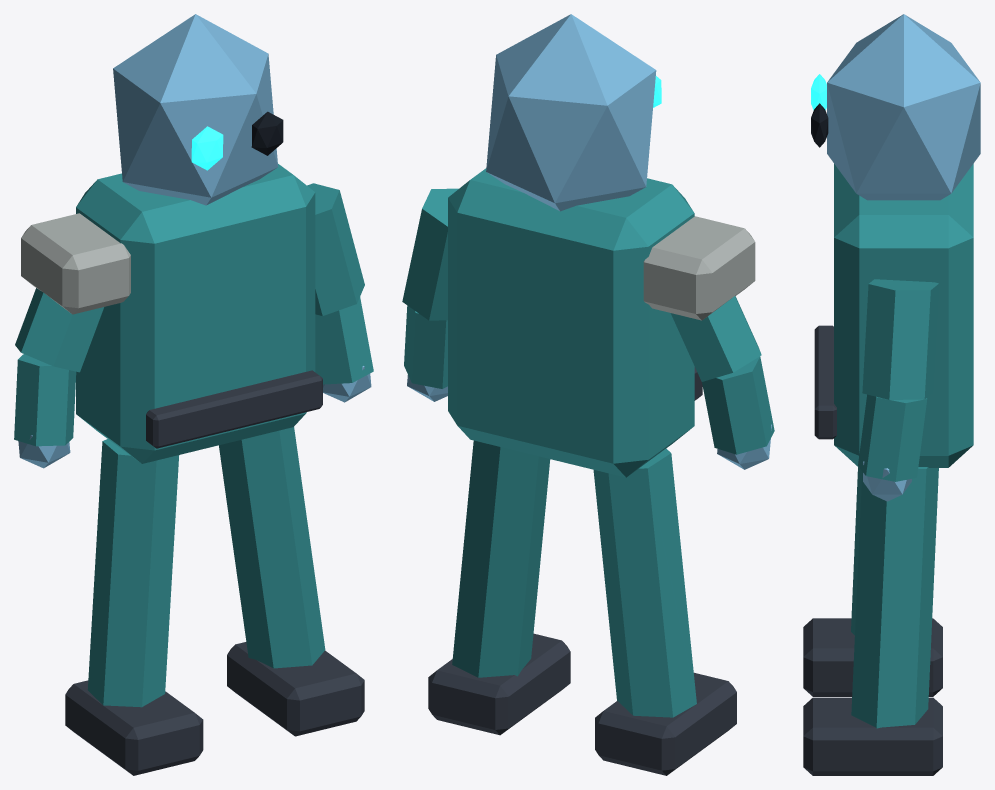
The model's file is npcs_001_seed100.glb.
3 renders of one model, left to right at view 1: azimuth 30°, elevation 25°; view 2: azimuth 150°, elevation 25°; view 3: azimuth 270°, elevation 25°, orthographic. The views are drawn at different scales.
Visible parts, largest first — view 1: npcs_001_seed100; view 2: npcs_001_seed100; view 3: npcs_001_seed100.
Part boxes in pixels (x1,y1,x2,y2): npcs_001_seed100: (14, 14, 373, 775); npcs_001_seed100: (402, 14, 774, 775); npcs_001_seed100: (803, 14, 980, 775).
Bounding box in the file's own units: 0.9945 × 1.9 × 0.4324.
